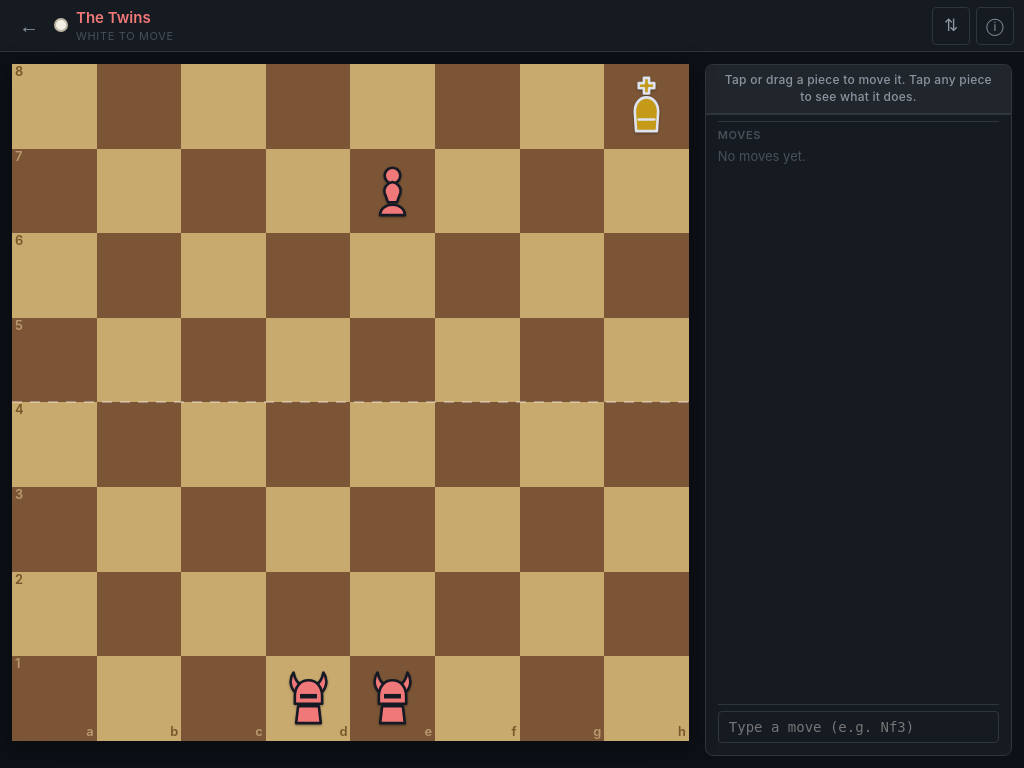
Twins promotion with a Rally available › asks which piece to promote to before the rally
Click the cell named "e7: White Pawn".
click(393, 191)  # box [350,149,435,233]
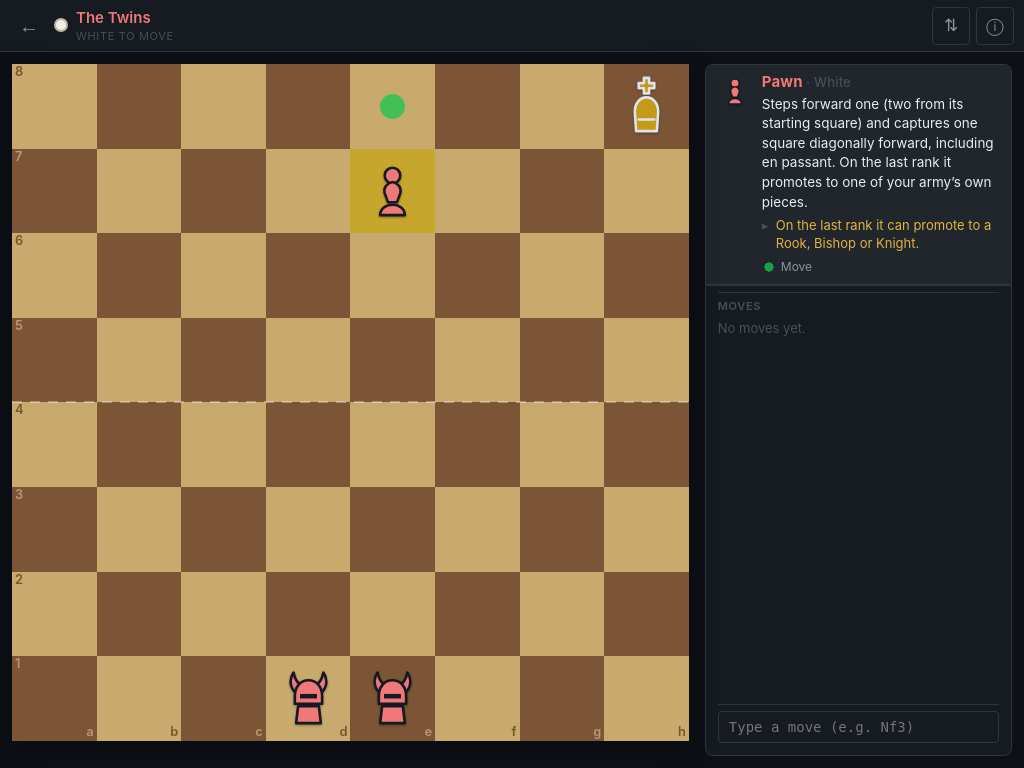
Click the cell named "e8".
click(393, 106)  # box [350,64,435,149]
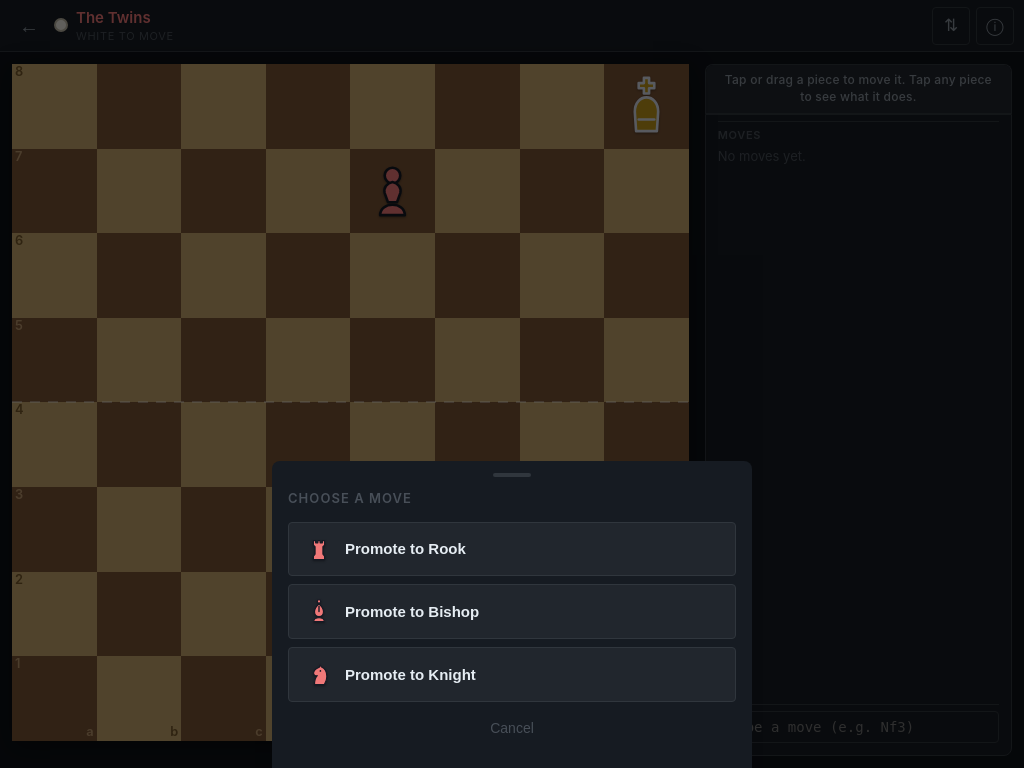
Click the button with test id "chooser-option-".
click(410, 675)  # box [288,647,736,702]
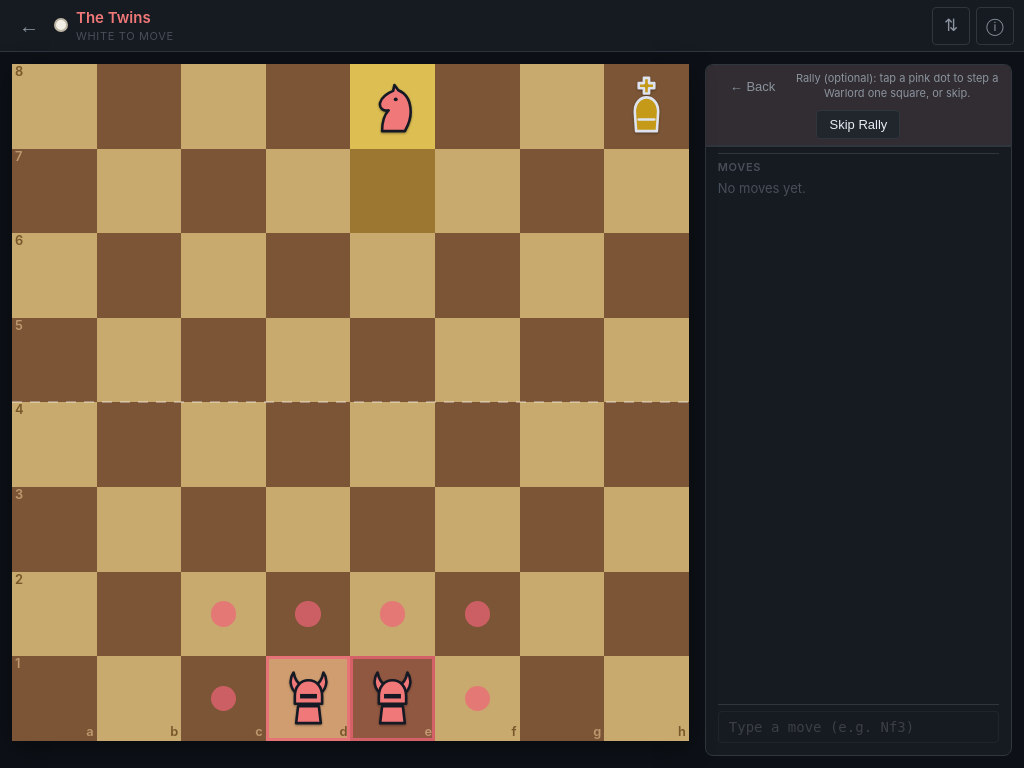
Expected: the element with test id "rally-bar" is shown, [706,65,1011,146]
Click the button with test id "rally-skip".
click(858, 124)  # box [816,110,900,139]
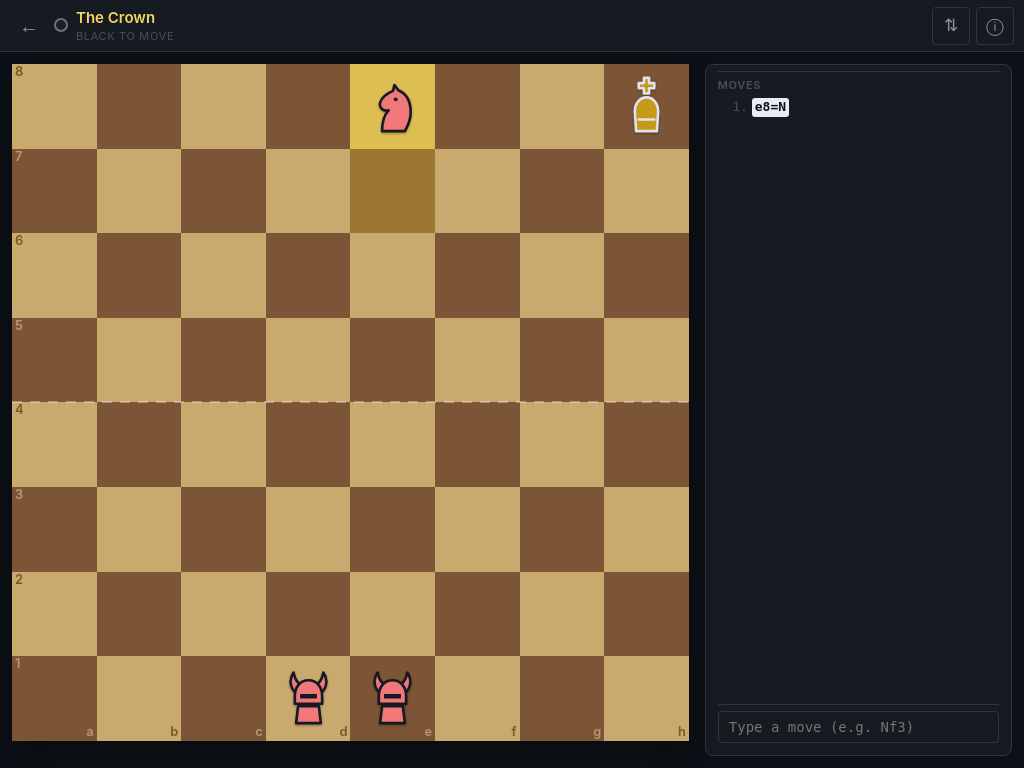
Expected: the text with class "move-san" reads "e8=N", [755,99,786,114]
